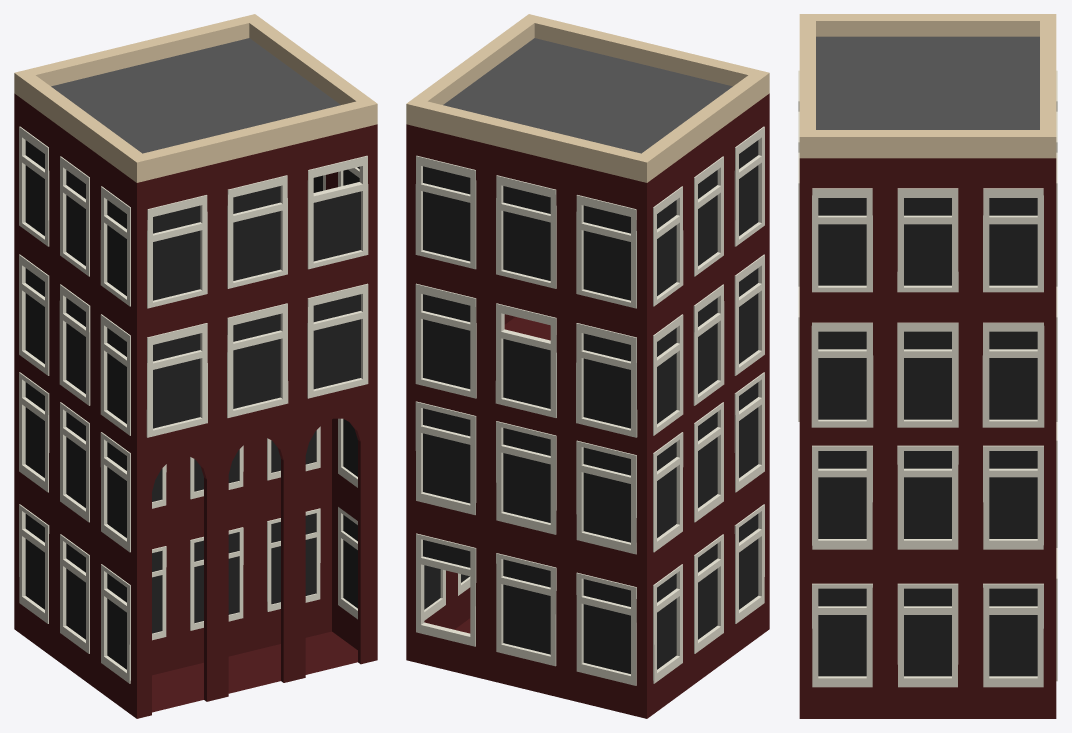
File: home 2.fbx
The picture shows the model from 3 angles, left to right: view 1: azimuth 30°, elevation 25°; view 2: azimuth 150°, elevation 25°; view 3: azimuth 270°, elevation 25°; orthographic projection. The views are drawn at different scales.
Parts seen in each view (by area): view 1: Cube.002; view 2: Cube.002; view 3: Cube.002.
Part boxes in pixels (x1,y1,x2,y2): Cube.002: [14, 14, 377, 718]; Cube.002: [406, 14, 769, 718]; Cube.002: [798, 14, 1057, 718].
Bounding box in the file's own units: 701 × 1534 × 619.
2 materials, 2 textured.
